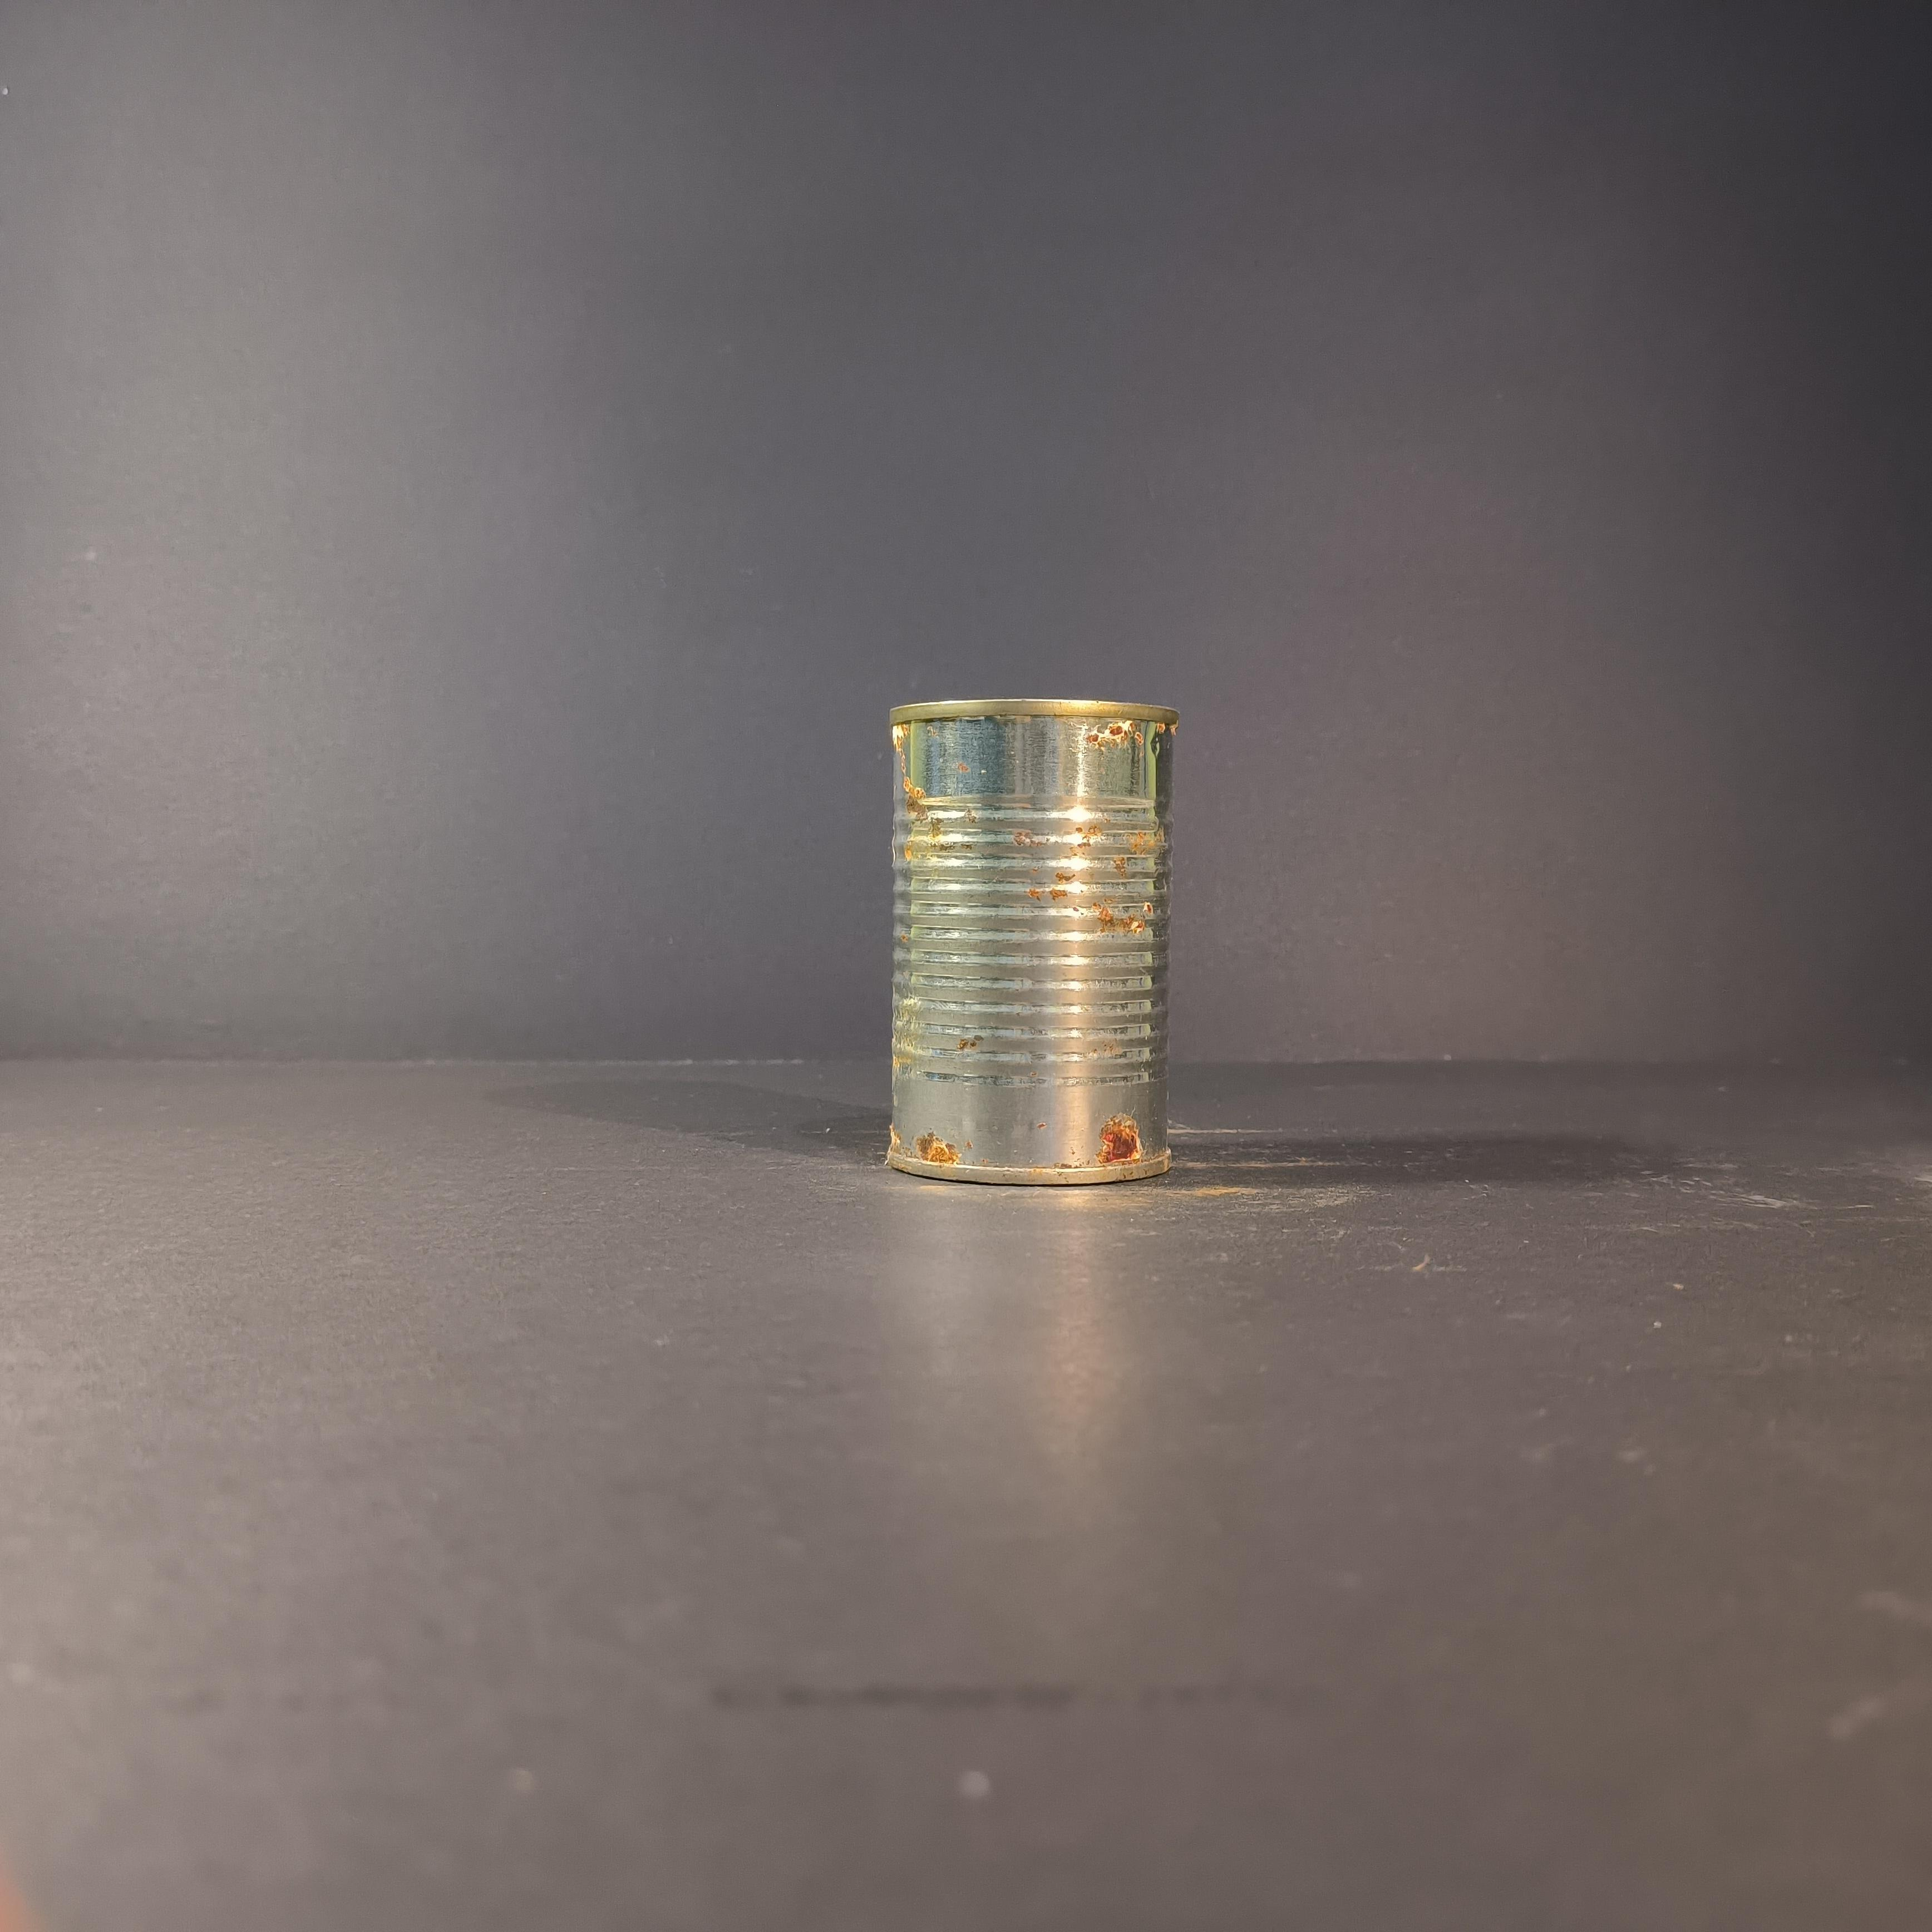Rusted: (860, 676, 1182, 1194)
